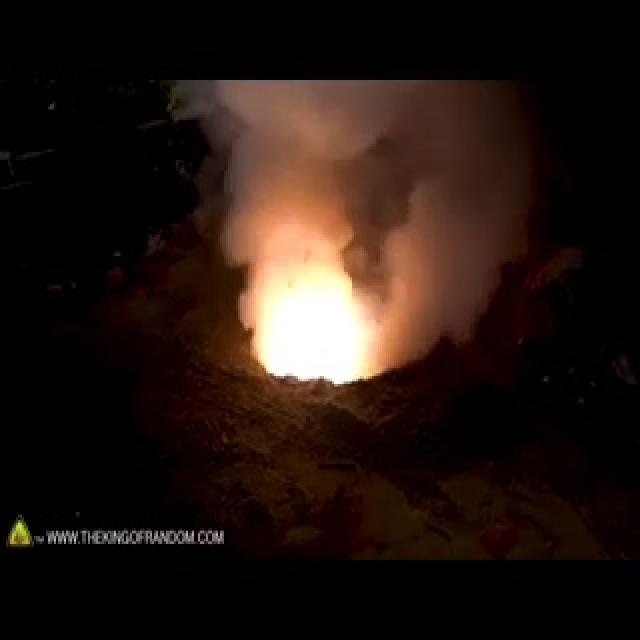Fire: (229, 193, 381, 370)
Smoke: (135, 85, 564, 220), (381, 84, 548, 354)
